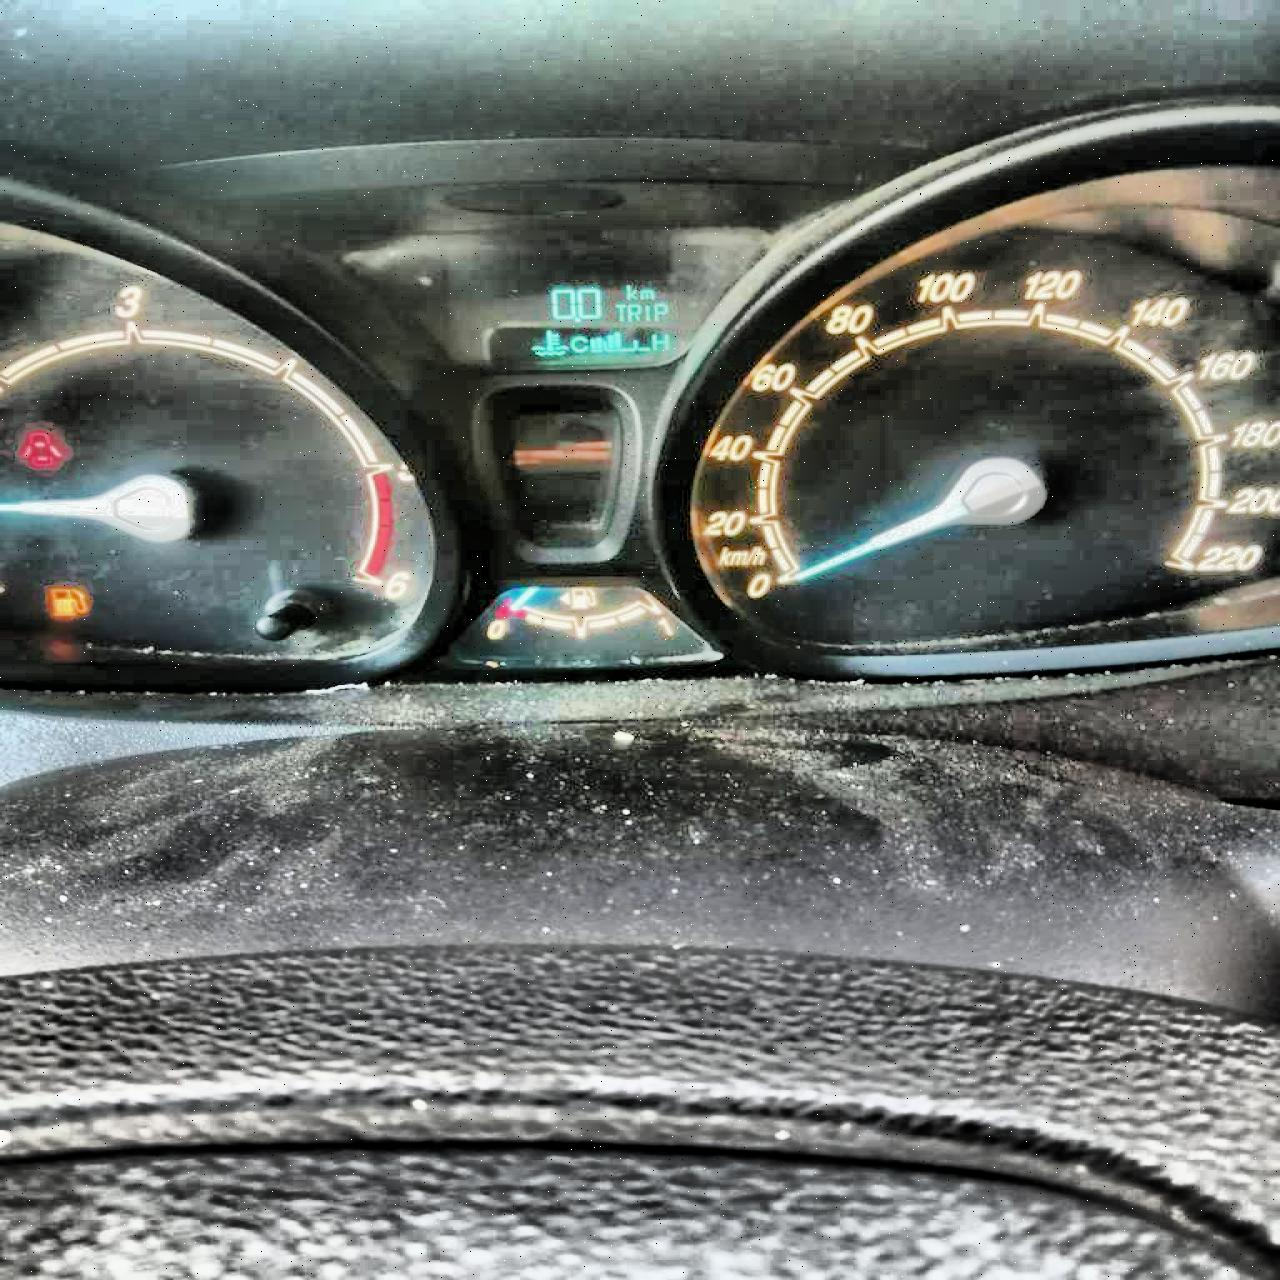-: (572, 315, 581, 322)
0: (546, 287, 576, 319), (576, 287, 601, 318)
X: (568, 335, 587, 353), (625, 301, 640, 321), (649, 333, 668, 348), (654, 301, 668, 320), (612, 302, 625, 321), (624, 282, 636, 300), (639, 286, 654, 299), (641, 302, 651, 321)
odometer: (430, 267, 704, 375)
